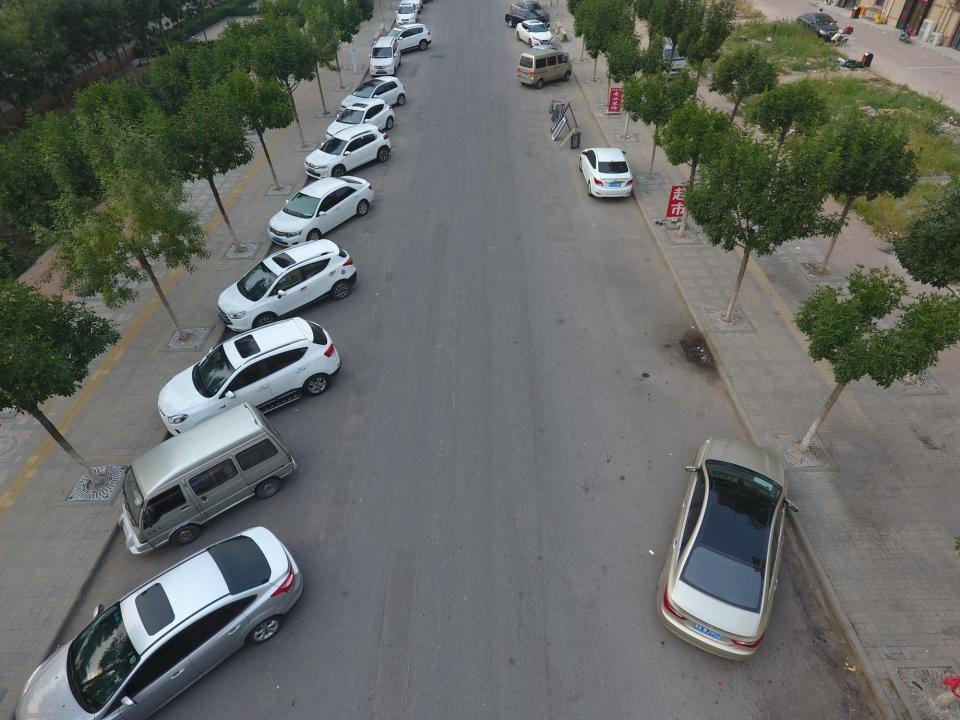car: (15, 524, 305, 720), (656, 437, 797, 663), (157, 318, 341, 439), (217, 240, 357, 336), (267, 175, 374, 251), (304, 124, 392, 182), (323, 97, 396, 146), (578, 146, 635, 202), (340, 76, 406, 119), (374, 23, 432, 57), (796, 12, 841, 41), (516, 19, 556, 49), (505, 8, 550, 32), (510, 0, 549, 23), (395, 3, 420, 28)
van: (119, 403, 297, 555), (517, 50, 572, 88), (648, 40, 691, 84), (367, 35, 401, 77)
